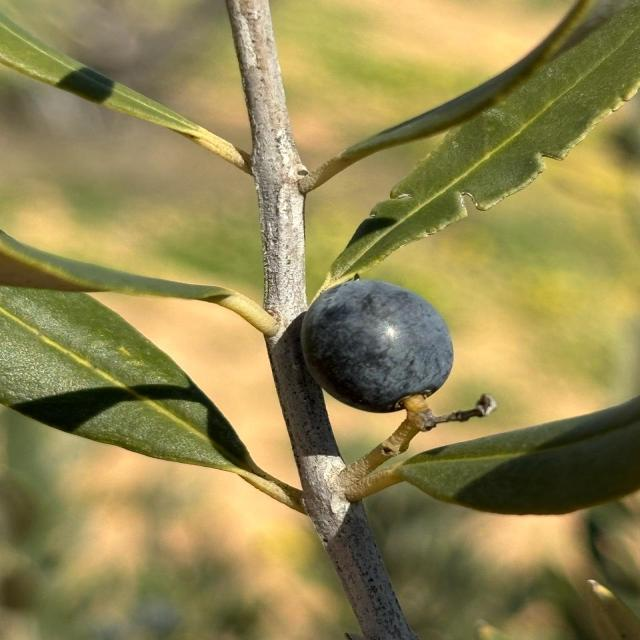Healthy: (0, 286, 306, 514), (302, 279, 453, 413)
